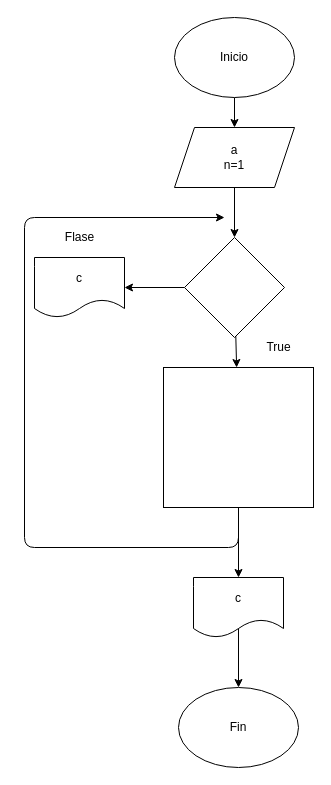
Some shapes in this 331 by 785 pixel diagram are drawn without their labels. The box of each missing label's shape, as (x1, y1, x2, y2) in pixels:
a>0: (184, 236, 284, 338)
n = n * a a = a - 1: (162, 366, 314, 508)
